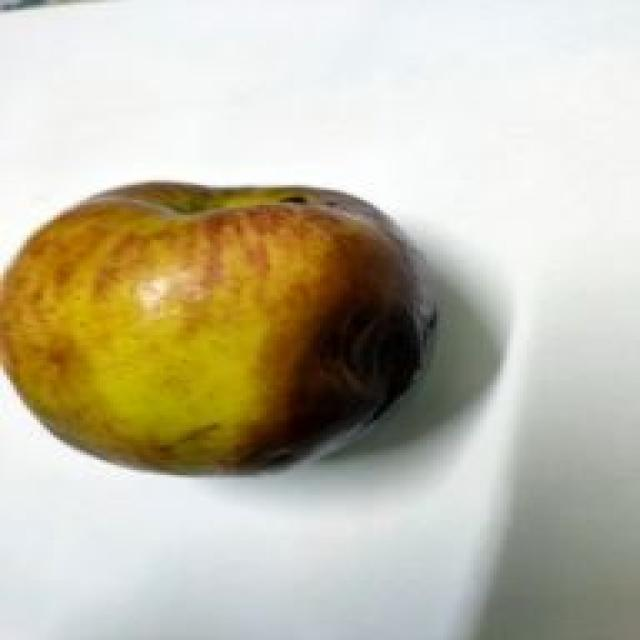Rotten_Apple: (0, 178, 450, 479)
